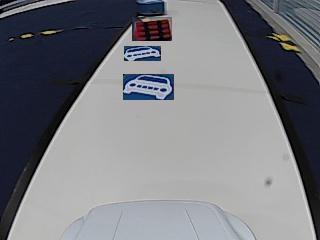prop: (137, 0, 165, 17)
